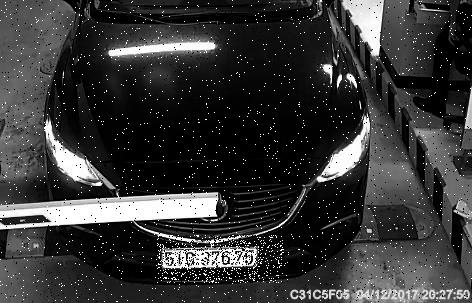License-plate: (159, 236, 285, 284)
